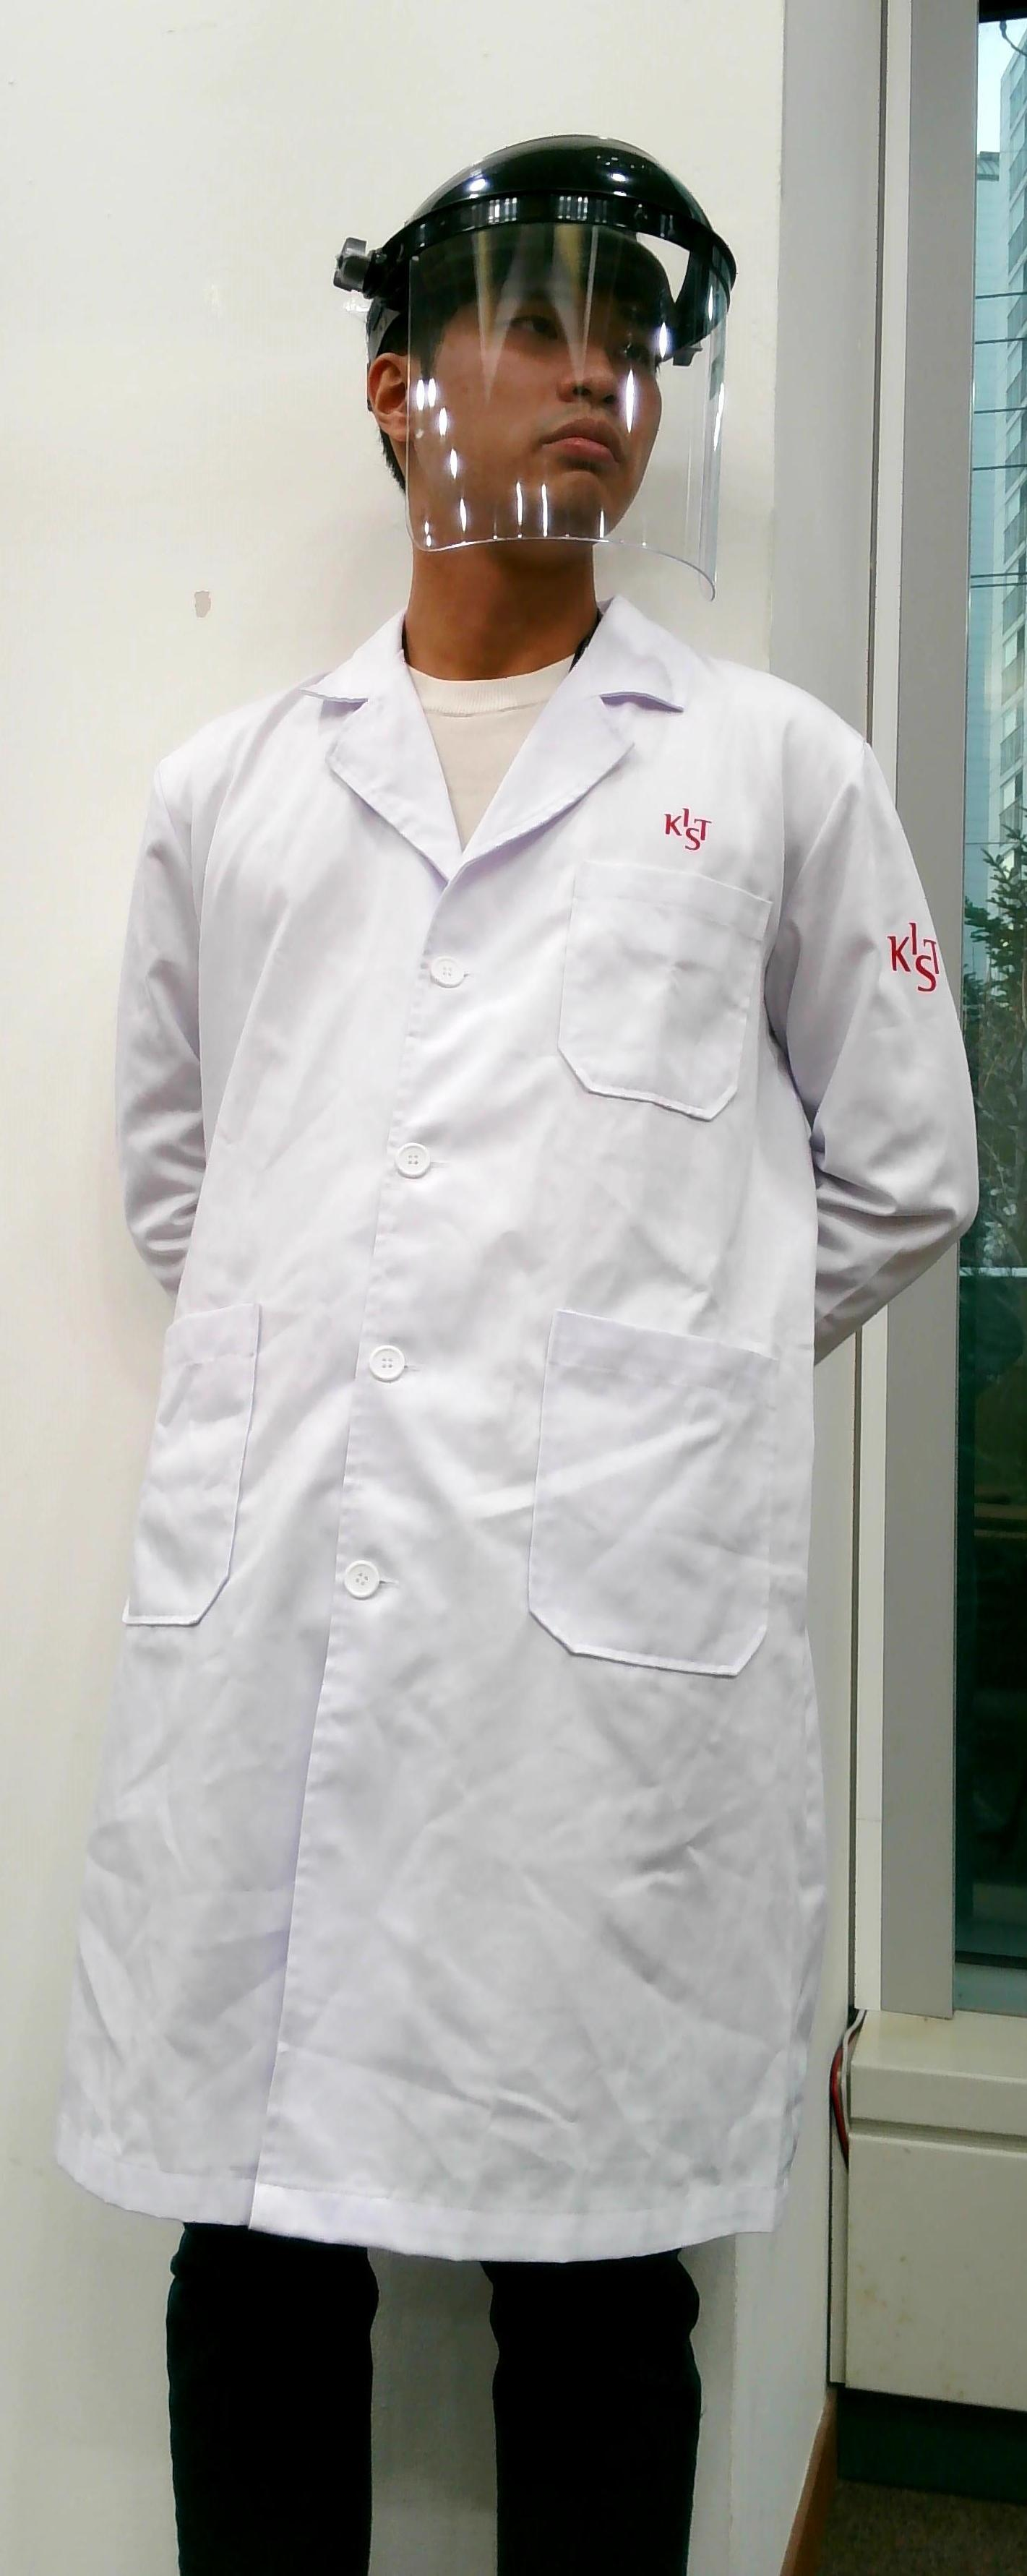lab_coat: (174, 680, 823, 2206)
